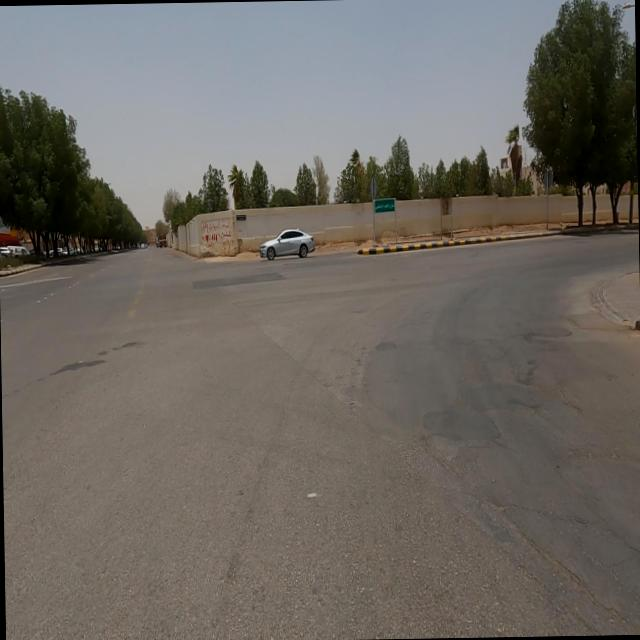Graffiti: (202, 222, 233, 250)
